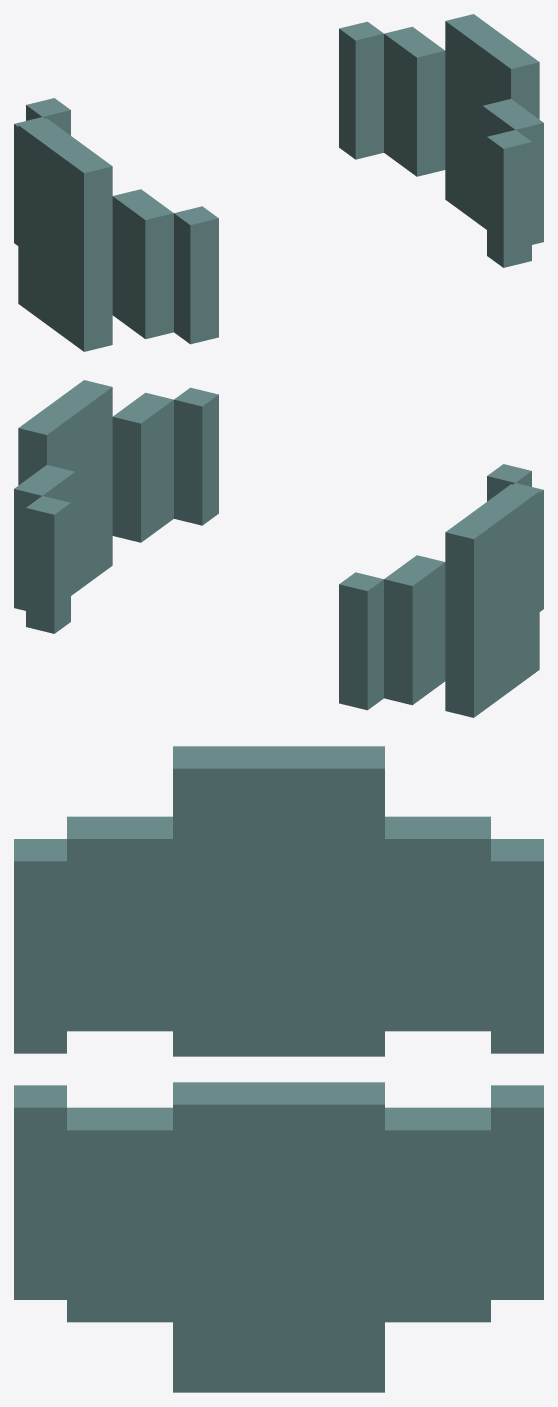
Rendered from Crystal_Ring_4.dae.
3 views of the same model, one above another, from view 1: azimuth 30°, elevation 25°; view 2: azimuth 150°, elevation 25°; view 3: azimuth 270°, elevation 25° (orthographic). The views are drawn at different scales.
Visible parts, largest first — view 1: Crystal_Ring_4; view 2: Crystal_Ring_4; view 3: Crystal_Ring_4.
Part boxes in pixels (x1,y1,x2,y2): Crystal_Ring_4: (14,14,543,351); Crystal_Ring_4: (14,380,543,717); Crystal_Ring_4: (14,746,543,1392).
Size of the model in its own units: 0.4 by 0.25 by 0.15.
